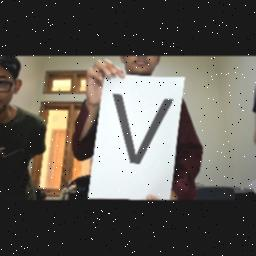v: (107, 83, 179, 173)
